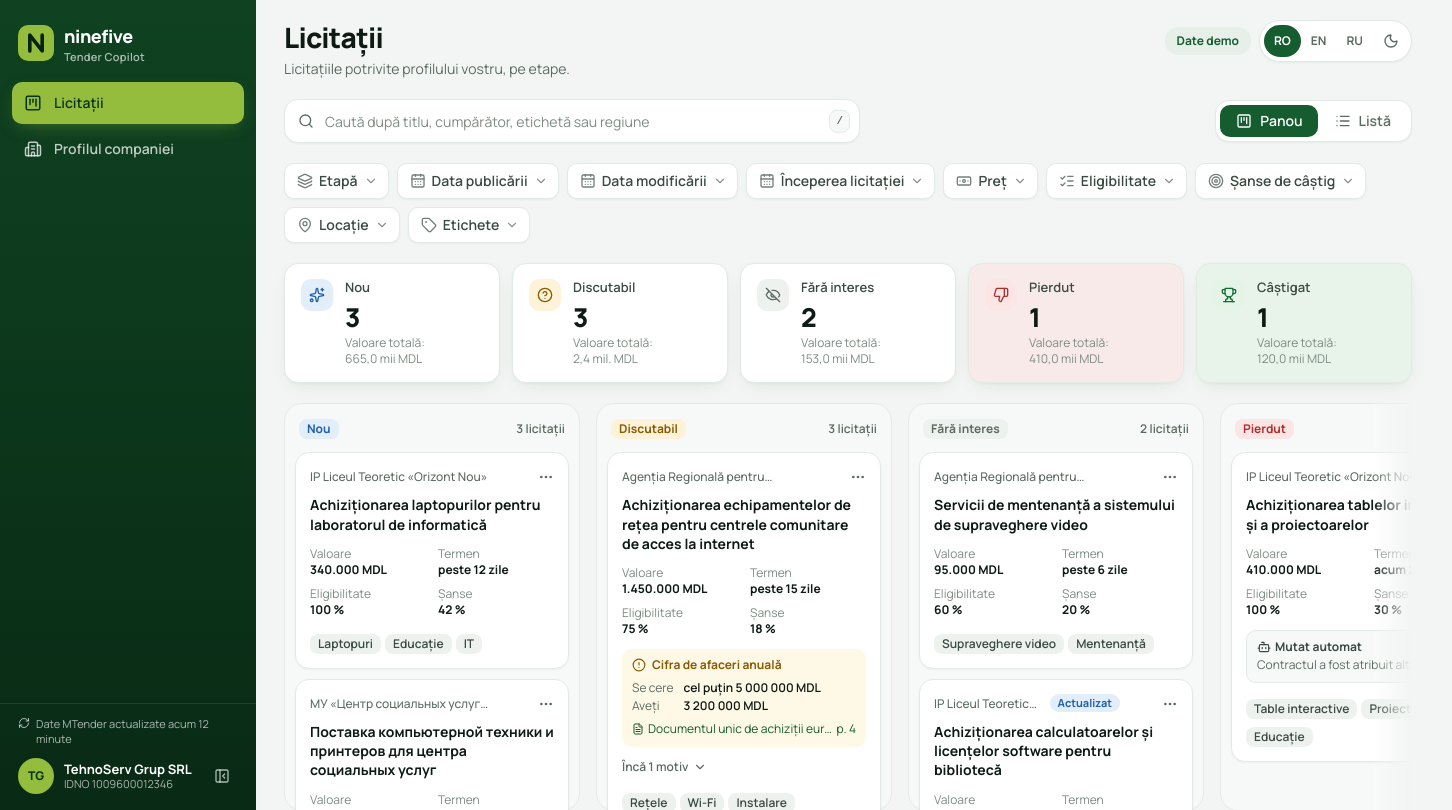
board search › filters as you type, ignoring diacritics, and keeps the search in the URL
Expected: the link "Achiziționarea echipamentelor de rețea pentru centrele comunitare de acces la internet" is shown, [622, 495, 851, 553]
In the search field named "Caută licitații": (572, 121) [284, 99, 860, 143], type "achizitionarea laptop"
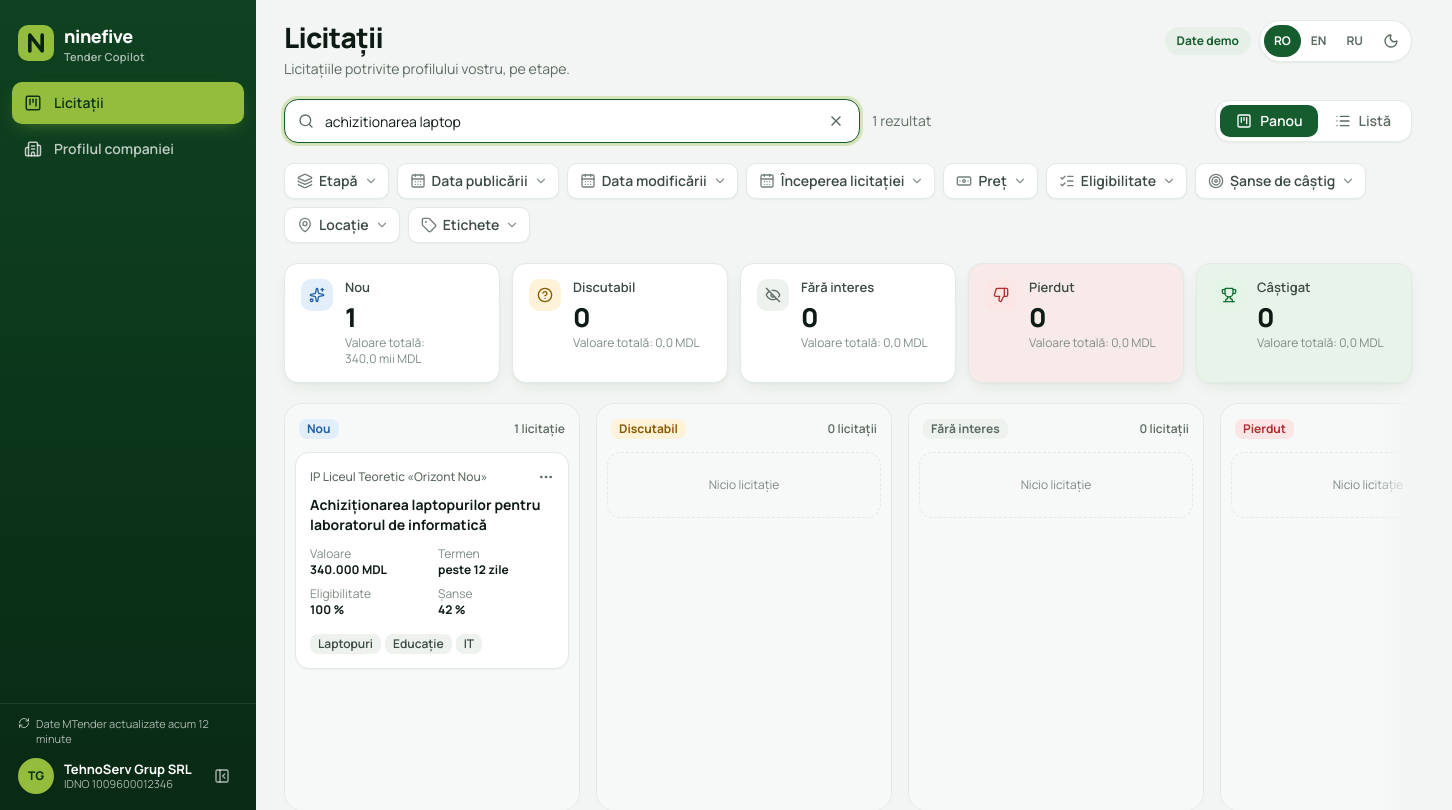
Expected: the link "Achiziționarea laptopurilor pentru laboratorul de informatică" is shown, [310, 495, 540, 534]
Expected: the link "Achiziționarea echipamentelor de rețea pentru centrele comunitare de acces la internet" is gone
Expected: the text "1 rezultat" is shown, [872, 111, 931, 131]
